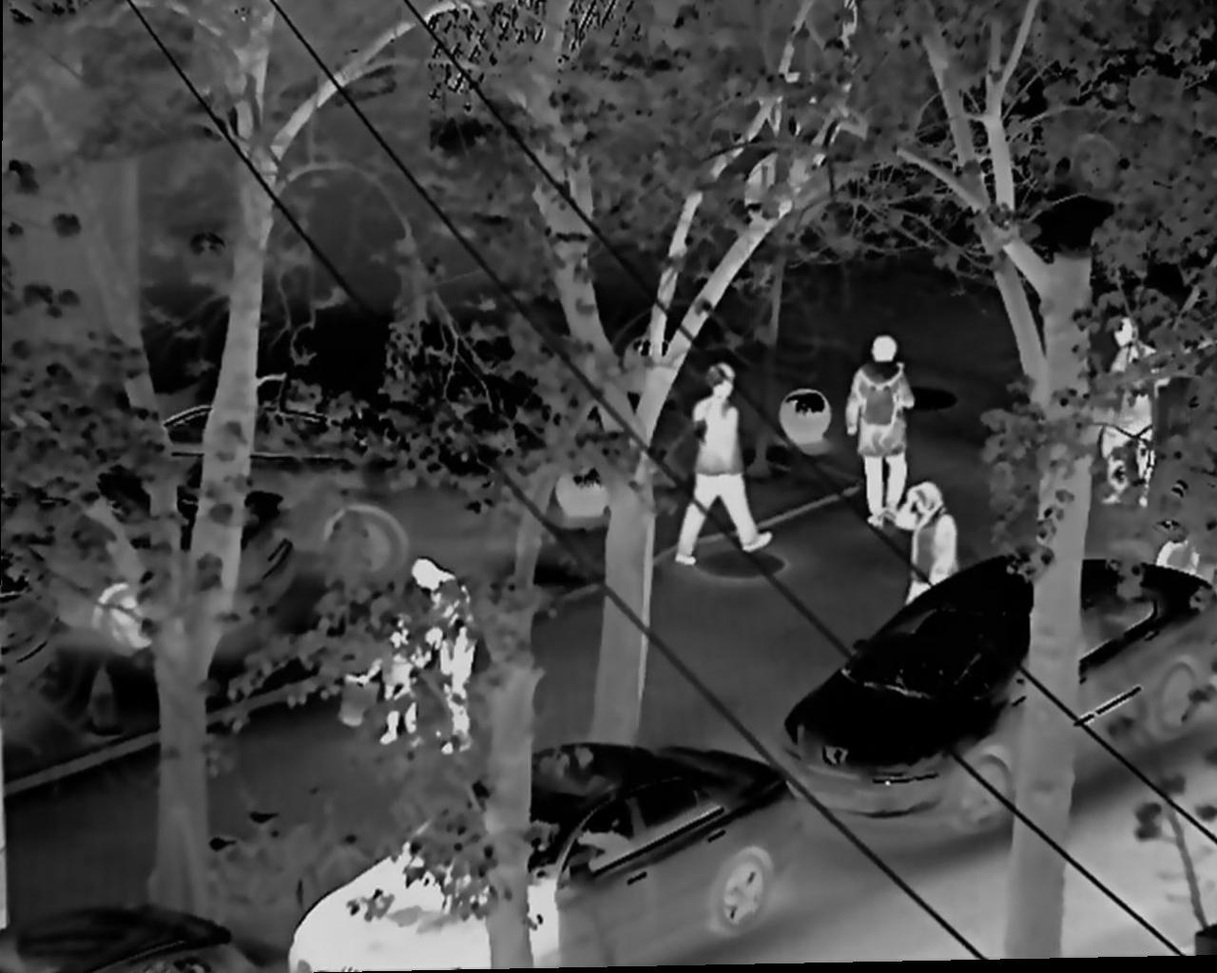person: (678, 357, 775, 557), (1090, 318, 1162, 509), (844, 332, 913, 525), (415, 558, 477, 754), (899, 474, 968, 624), (357, 616, 433, 746)
